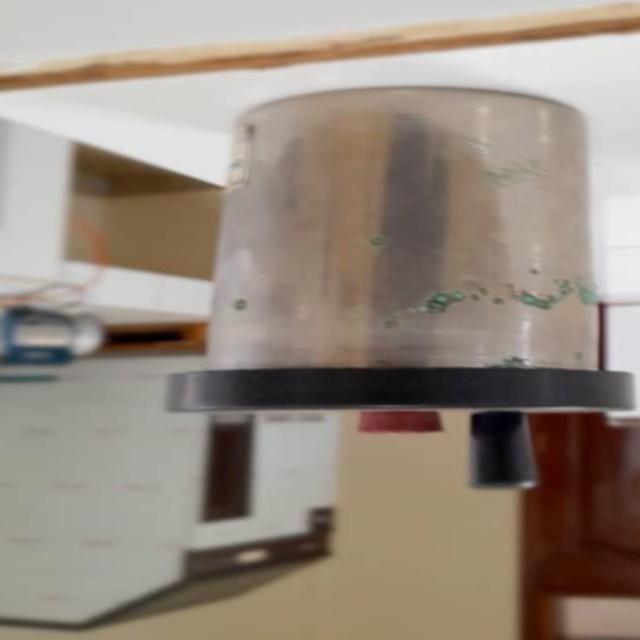Calorimeter: (165, 83, 638, 500)
